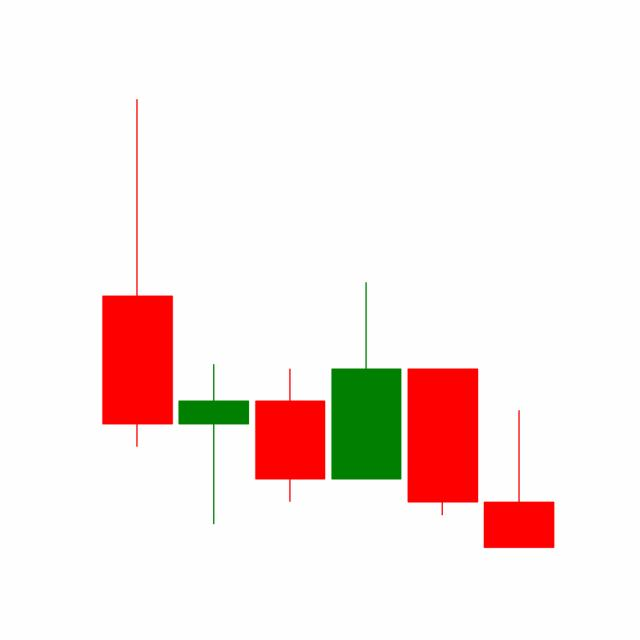Marubozu: (403, 366, 481, 517)
